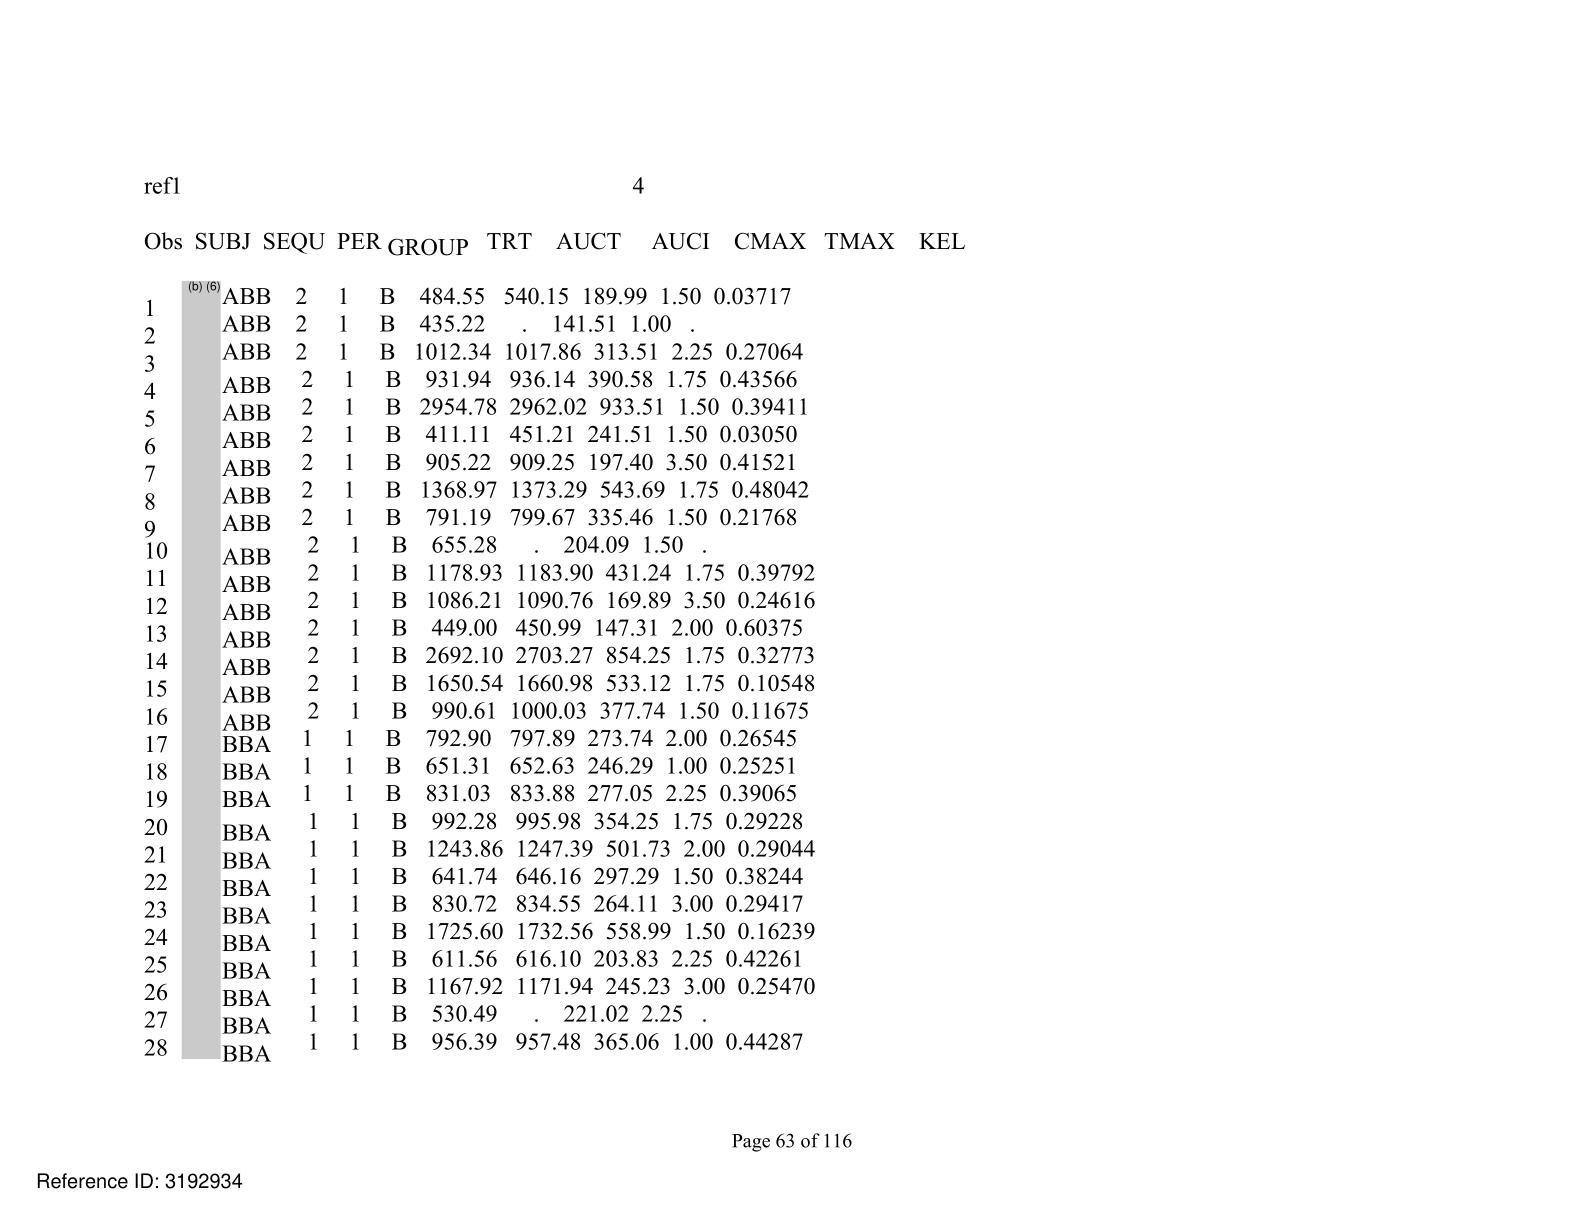nolines: (140, 229, 966, 1067)
